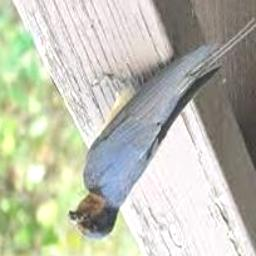Swallow: (69, 16, 256, 242)
